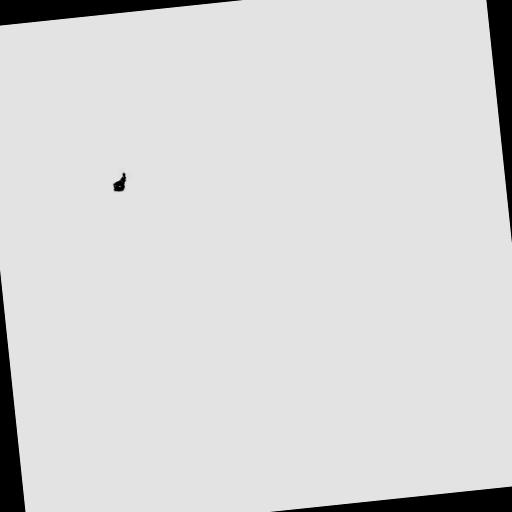copper: (104, 164, 136, 200)
